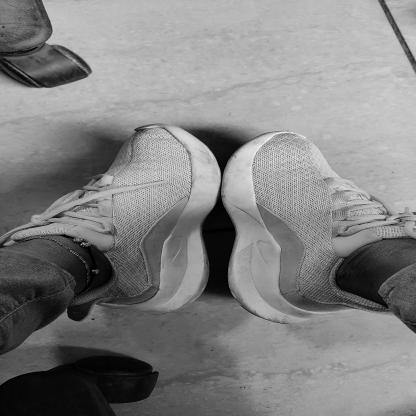ankle: (115, 267, 128, 272), (327, 268, 337, 273)
heel: (279, 313, 291, 319), (157, 307, 168, 311)
left_foot: (31, 125, 223, 315)
pinky: (312, 146, 318, 150), (131, 139, 136, 141)
right_foot: (225, 132, 398, 321)
toe: (263, 142, 274, 147), (157, 133, 167, 136)
